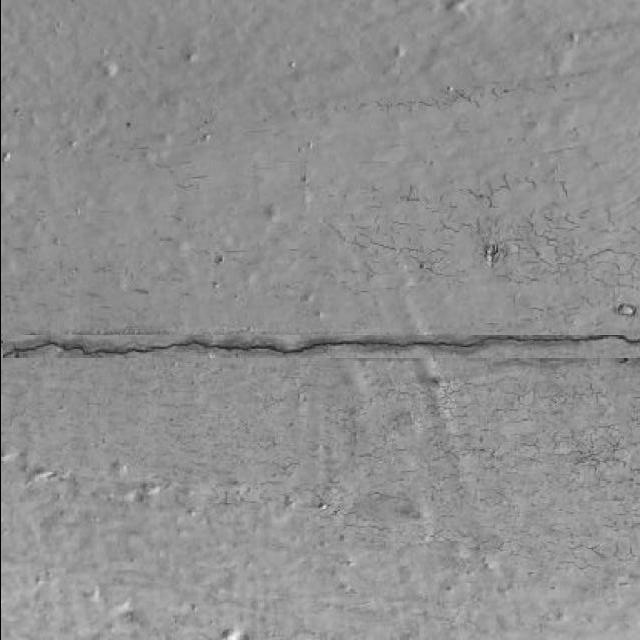crack: (7, 347, 638, 406), (1, 329, 639, 360), (5, 331, 233, 357), (14, 328, 199, 341), (4, 334, 72, 356)
